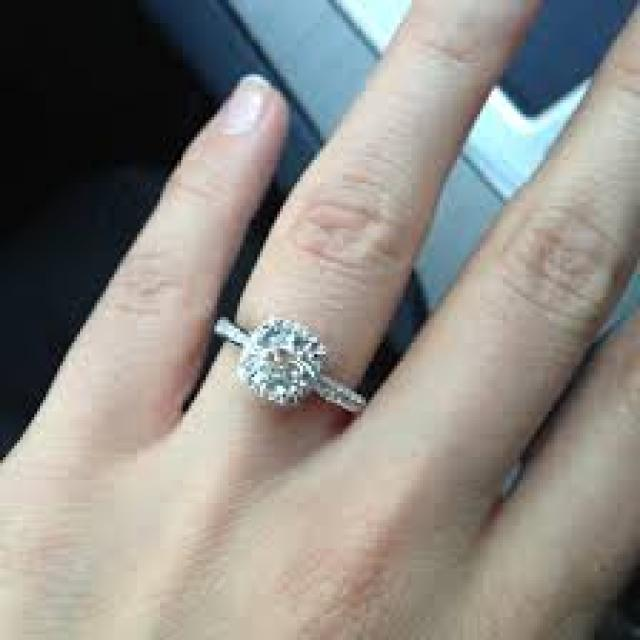Ring: (189, 284, 396, 430)
